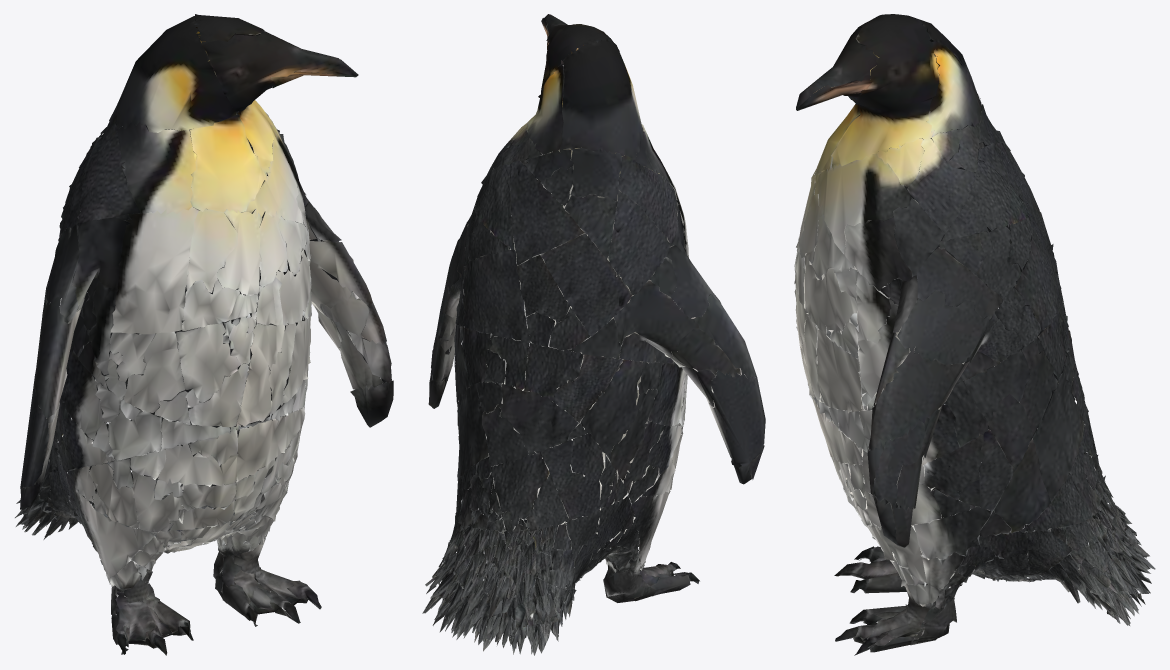
Rendered from penguin.glb.
3 renders of one model, left to right at view 1: azimuth 30°, elevation 25°; view 2: azimuth 150°, elevation 25°; view 3: azimuth 270°, elevation 25°, orthographic. The views are drawn at different scales.
Parts seen in each view (by area): view 1: Mesh_0; view 2: Mesh_0; view 3: Mesh_0.
Part boxes in pixels (x1,y1,x2,y2): Mesh_0: [15, 14, 393, 655]; Mesh_0: [422, 14, 765, 655]; Mesh_0: [794, 14, 1155, 655].
Size of the model in its own units: 0.0321 by 0.0502 by 0.0276.
Materials: 1 (1 with a texture image).
